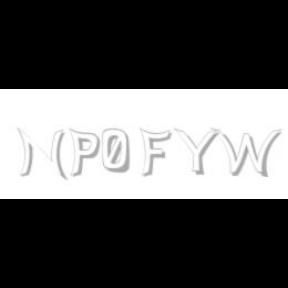0: (102, 128, 132, 174)
F: (139, 128, 171, 178)
N: (16, 128, 66, 180)
P: (68, 128, 100, 178)
W: (210, 128, 282, 178)
Y: (173, 128, 219, 176)
